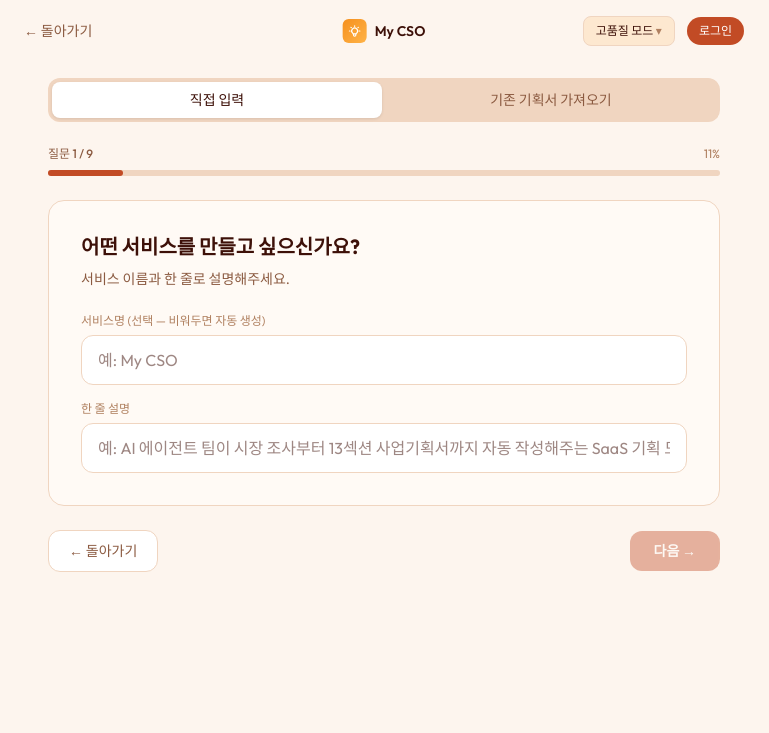
Test: Guided Page Integration › shows preset panel toggle with 기본/고품질 options
This screenshot has width=769, height=733.
# The compact preset button in nav contains "모드"
Click the button "고품질 모드 ▾". click: point(629, 31)
box: [583, 16, 675, 46]
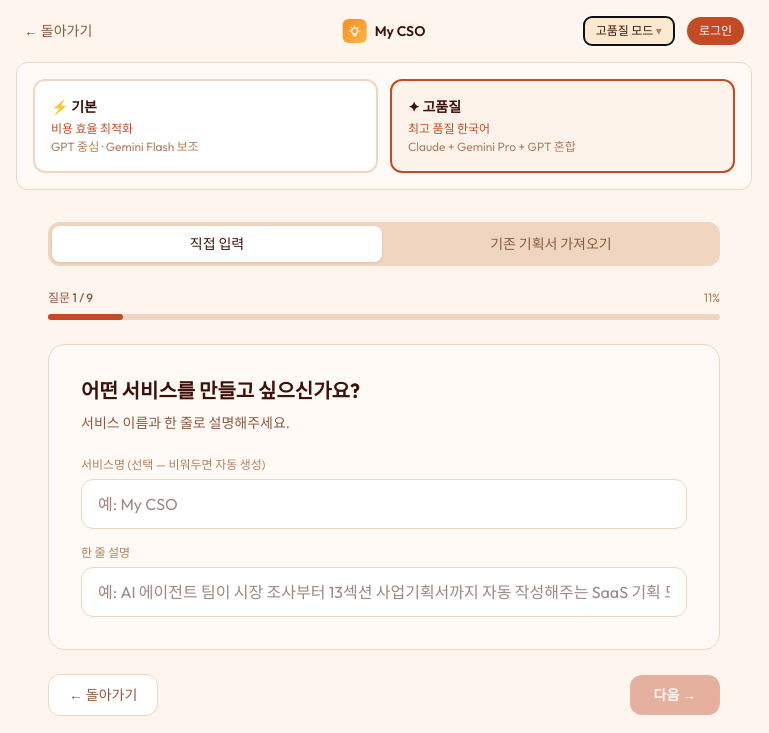
Now the text "비용 효율 최적화" is shown, box [51, 121, 133, 136]
Now the text "최고 품질 한국어" is shown, box [408, 121, 490, 136]
